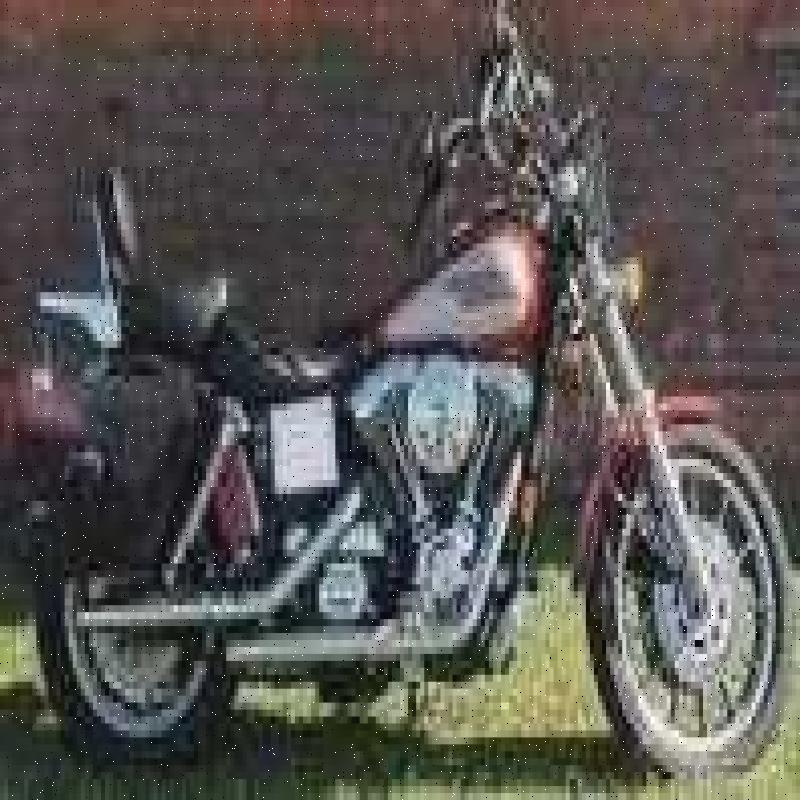bike: (6, 14, 799, 790)
